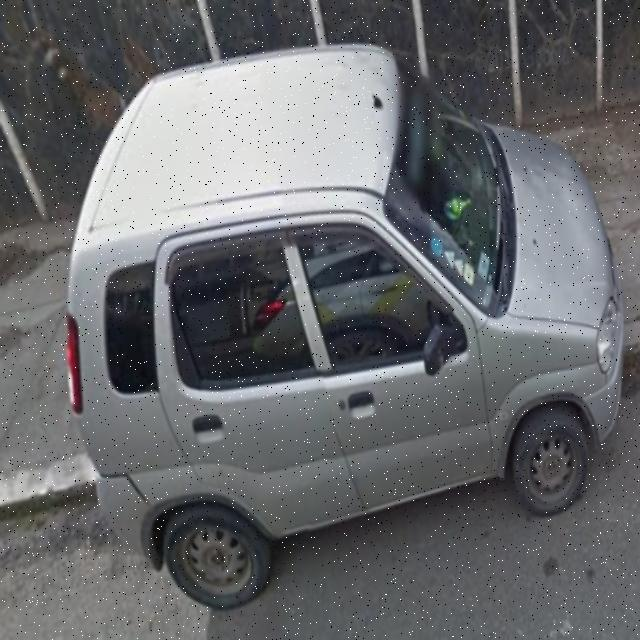cars: (62, 44, 628, 605)
